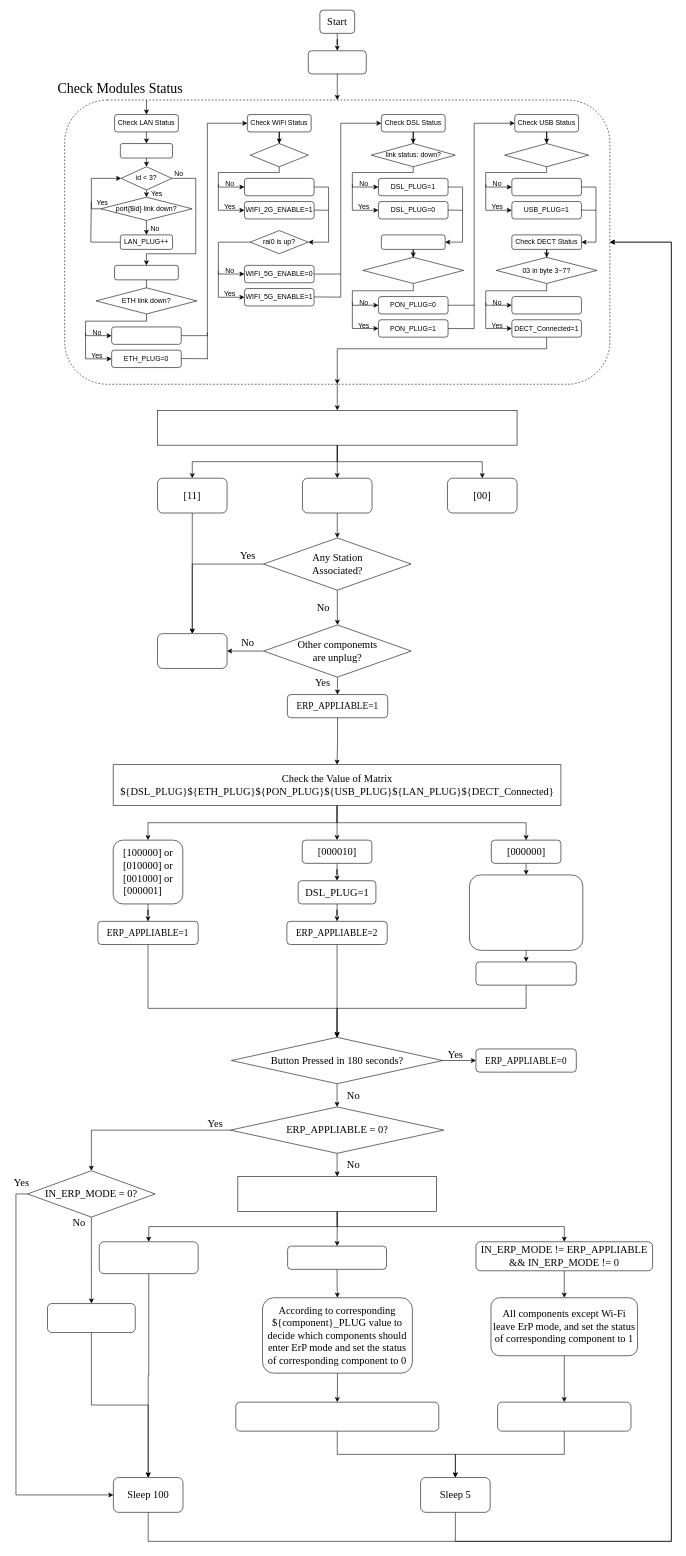
Image size: 686x1556. Some labels were removed from this diagram. Here are the shapes that lost their labels. From the top down, the box of each, then its label:
(308, 50, 366, 74): Sleep 300
(120, 143, 173, 158): LAN_PLUG=0
(250, 143, 308, 167): ra0 is up?
(504, 143, 589, 167): Device > 4?
(244, 178, 314, 196): WIFI_2G_ENABLE=0
(511, 178, 581, 196): USB_PLUG=0
(381, 234, 445, 249): Check PON Status
(114, 265, 178, 280): Check ETH Status
(362, 257, 464, 283): State is O3 or O4 or O5
(511, 296, 581, 314): DECT_Connected=0
(111, 326, 181, 344): ETH_PLUG=1
(157, 410, 517, 445): Check the Value of Matrix ${WIFI_2G_ENABLE}${WIFI_5G_ENABLE}
(302, 478, 372, 513): [10] or [01]
(157, 633, 227, 668): Returrn 0
(469, 874, 583, 950): DSL_PLUG=1 ETH_PLUG=1 PON_PLUG=1 USB_PLUG=1 DECT_Connected=1
(475, 961, 576, 985): ERP_APPLIABLE=3
(237, 1176, 437, 1211): Check value of IN_ERP_MODE
(99, 1241, 198, 1274): IN_ERP_MODE = ERP_APPLIABLE
(287, 1246, 387, 1269): IN_ERP_MODE = 0
(47, 1303, 135, 1333): All components leave ErP mode
(235, 1402, 439, 1431): Set IN_ERP_MODE = ERP_APPLIABLE
(497, 1402, 631, 1431): Set IN_ERP_MODE = 0
